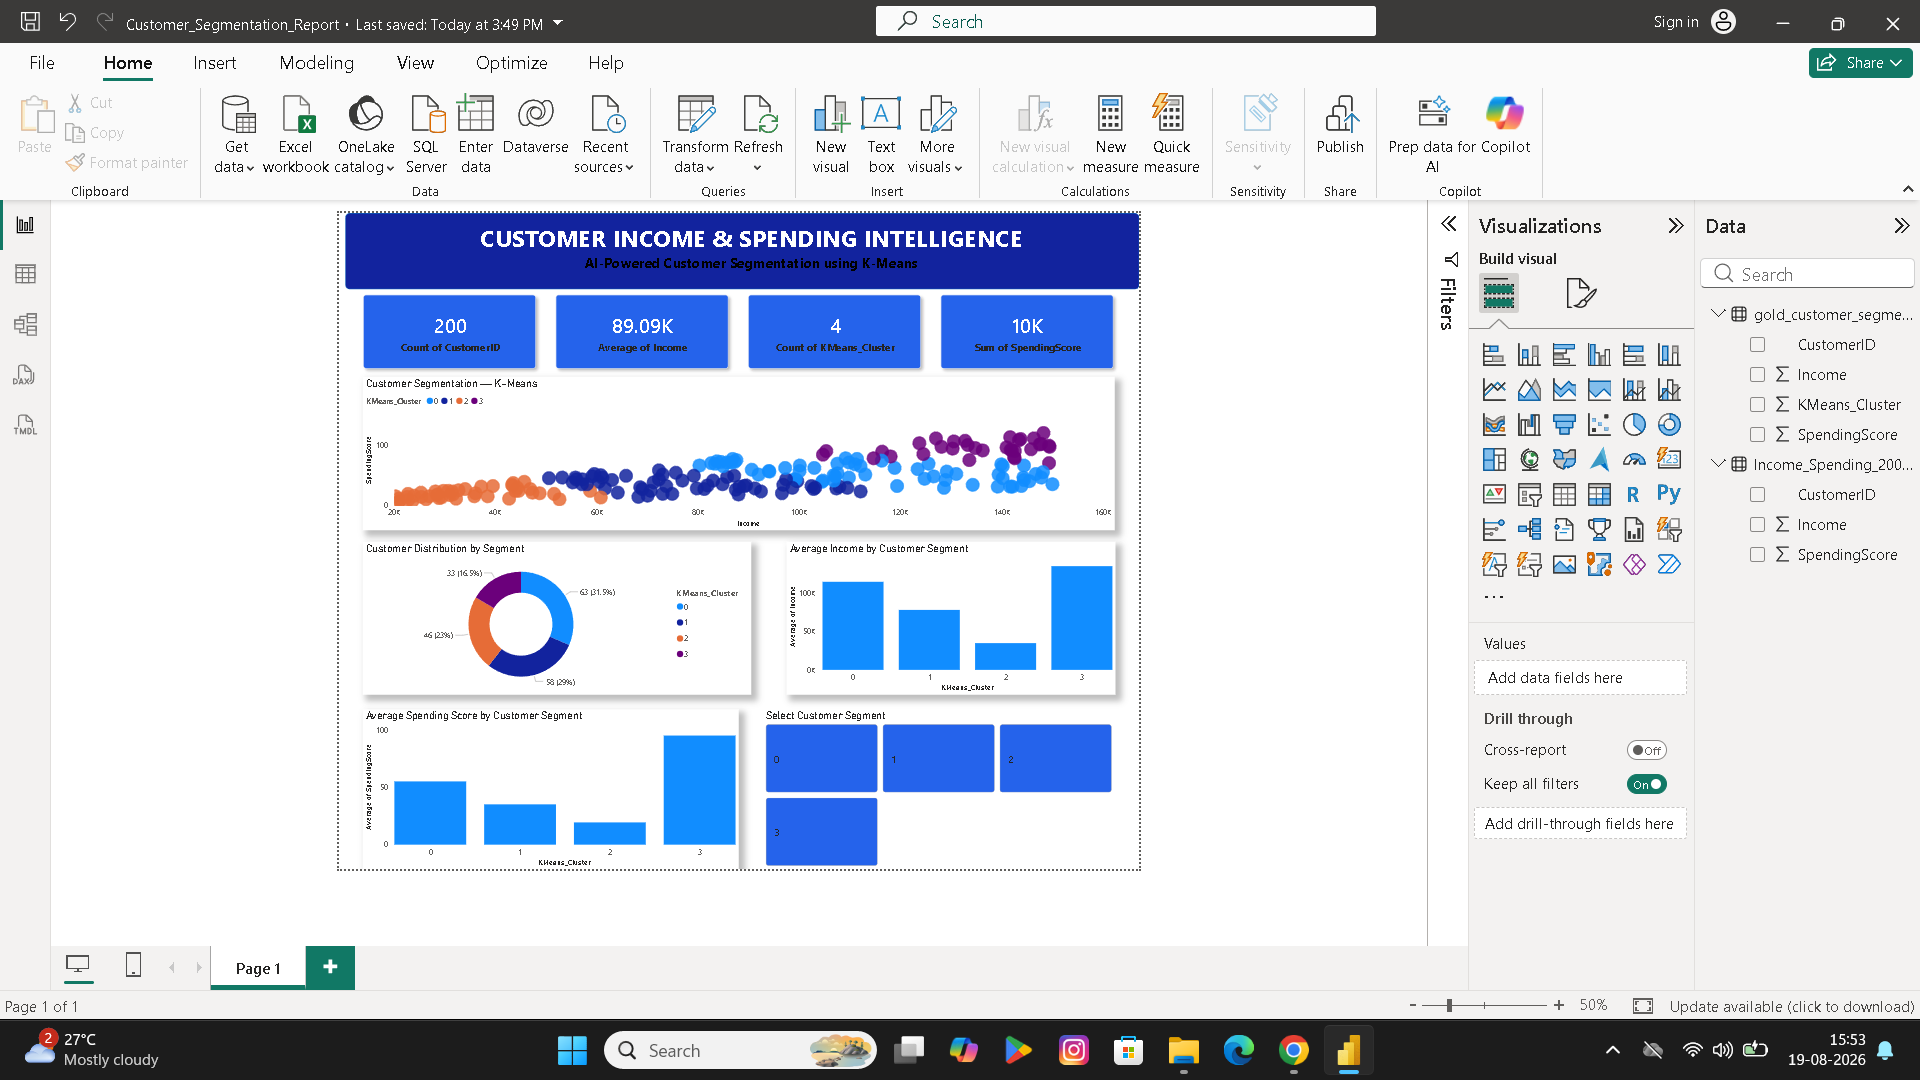

The page's visual inventory and layout, read from the dashboard file:
{"tool":"powerbi","page":{"name":"Page 1","canvas":[1280,1050],"ordinal":0},"visuals":[{"type":"shape","box":[9.8,0,1270.5,122.3],"z":0},{"type":"textbox","box":[68.5,9.8,1183.7,112.5],"z":1000},{"type":"cardVisual","fields":{"Data":["Count(gold_customer_segmentation.CustomerID)","Avg(gold_customer_segmentation.Income)","Count(gold_customer_segmentation.KMeans_Cluster)","Sum(gold_customer_segmentation.SpendingScore)"]},"box":[9.8,102.7,1260.7,176.1],"z":1001},{"type":"scatterChart","title":"Customer Segmentation — K-Means","fields":{"X":["gold_customer_segmentation.Income"],"Y":["gold_customer_segmentation.SpendingScore"],"Series":["gold_customer_segmentation.KMeans_Cluster"],"Size":["CountNonNull(gold_customer_segmentation.CustomerID)"]},"box":[38.6,261.4,1202.9,245.7],"z":1002},{"type":"donutChart","title":"Customer Distribution by Segment","fields":{"Category":["gold_customer_segmentation.KMeans_Cluster"],"Y":["CountNonNull(gold_customer_segmentation.CustomerID)"]},"box":[38.3,525,621.7,245],"z":1003},{"type":"clusteredColumnChart","title":"Average Income by Customer Segment","fields":{"Category":["gold_customer_segmentation.KMeans_Cluster"],"Y":["Avg(gold_customer_segmentation.Income)"]},"box":[715,525,526.7,245],"z":1004},{"type":"clusteredColumnChart","title":"Average Spending Score by Customer Segment","fields":{"Category":["gold_customer_segmentation.KMeans_Cluster"],"Y":["Avg(gold_customer_segmentation.SpendingScore)"]},"box":[38.3,793.3,601.7,256.7],"z":1005},{"type":"advancedSlicerVisual","title":"Select Customer Segment","fields":{"Values":["gold_customer_segmentation.KMeans_Cluster"]},"box":[678.3,793.3,563.3,256.7],"z":1006}]}

Visuals, with their boxes on the page's 1280x1050 design canvas (x1, y1, x2, y2). These are canvas units, not pixel positions in the 1920x1080 screenshot, which may show the page scaled, cropped or inside an application window:
shape: (10,0,1280,122)
textbox: (68,10,1252,122)
cardVisual - Count(gold_customer_segmentation.CustomerID) x Avg(gold_customer_segmentation.Income): (10,103,1270,279)
"Customer Segmentation — K-Means" scatterChart: (39,261,1242,507)
"Customer Distribution by Segment" donutChart: (38,525,660,770)
"Average Income by Customer Segment" clusteredColumnChart: (715,525,1242,770)
"Average Spending Score by Customer Segment" clusteredColumnChart: (38,793,640,1050)
"Select Customer Segment" advancedSlicerVisual: (678,793,1242,1050)
